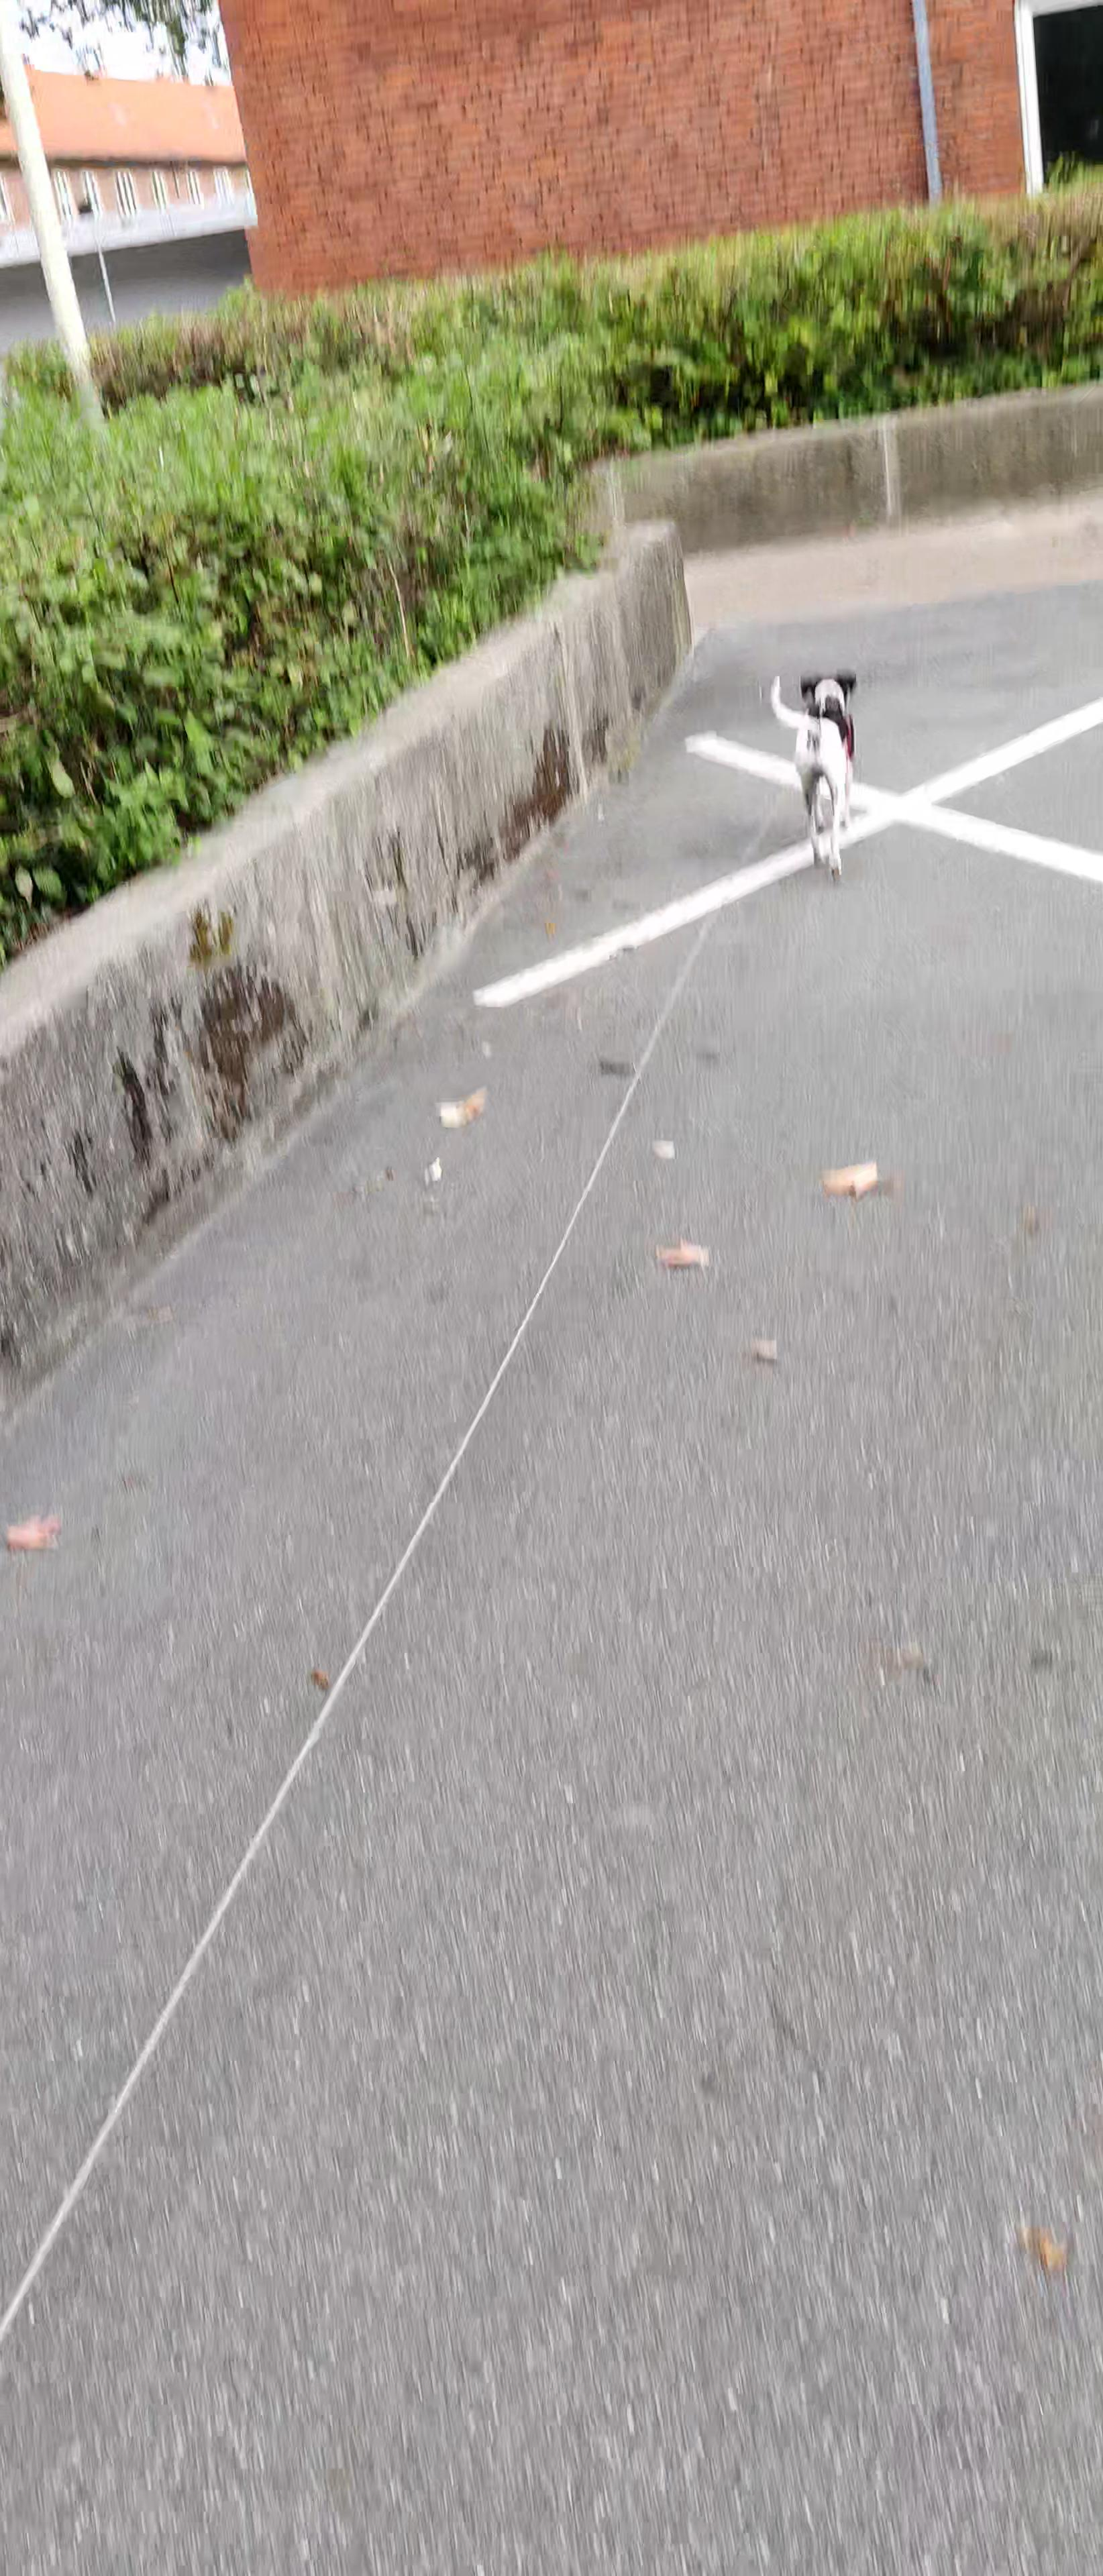Dog: (761, 652, 865, 889)
